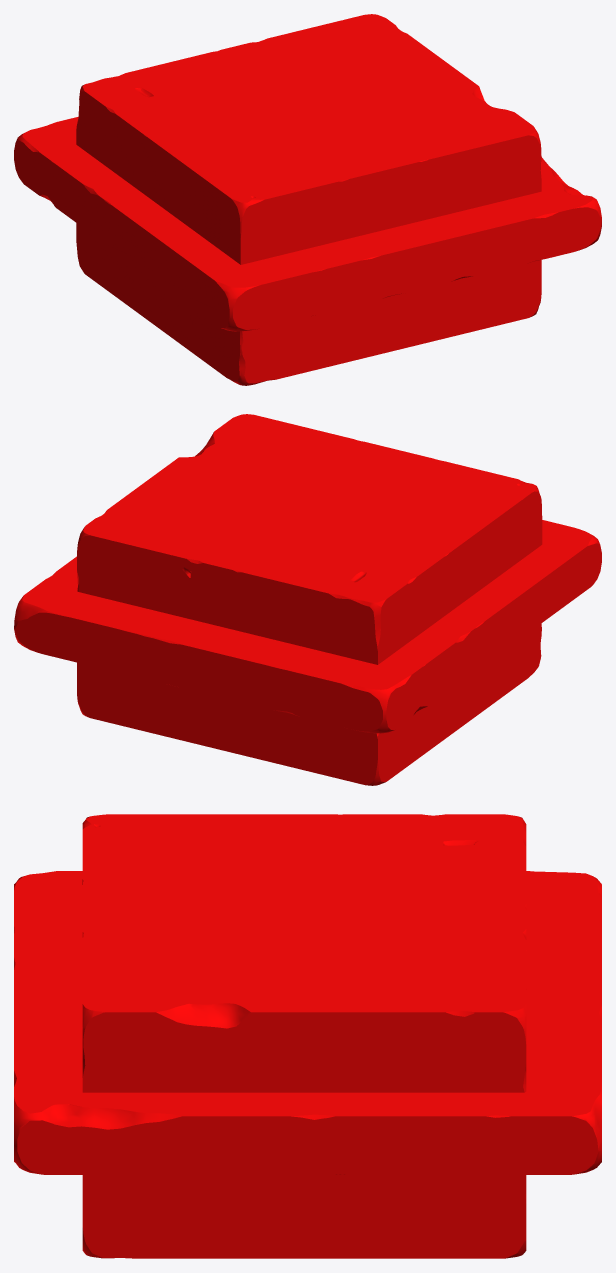
File: PlacasPresion.fbx
3 views of the same model, one above another, from view 1: azimuth 30°, elevation 25°; view 2: azimuth 150°, elevation 25°; view 3: azimuth 270°, elevation 25° (orthographic). The views are drawn at different scales.
Parts seen in each view (by area): view 1: Cube_dmg.002, Cube_dmg.001; view 2: Cube_dmg.002, Cube_dmg.001; view 3: Cube_dmg.002, Cube_dmg.001.
Boxes of the visible parts, <box> form: Cube_dmg.002: <box>76,14,541,385</box>; Cube_dmg.001: <box>14,116,601,331</box>; Cube_dmg.002: <box>77,414,542,785</box>; Cube_dmg.001: <box>14,520,601,733</box>; Cube_dmg.002: <box>82,814,526,1258</box>; Cube_dmg.001: <box>14,871,601,1174</box>.
Size of the model in its own units: 145 by 67.82 by 147.
